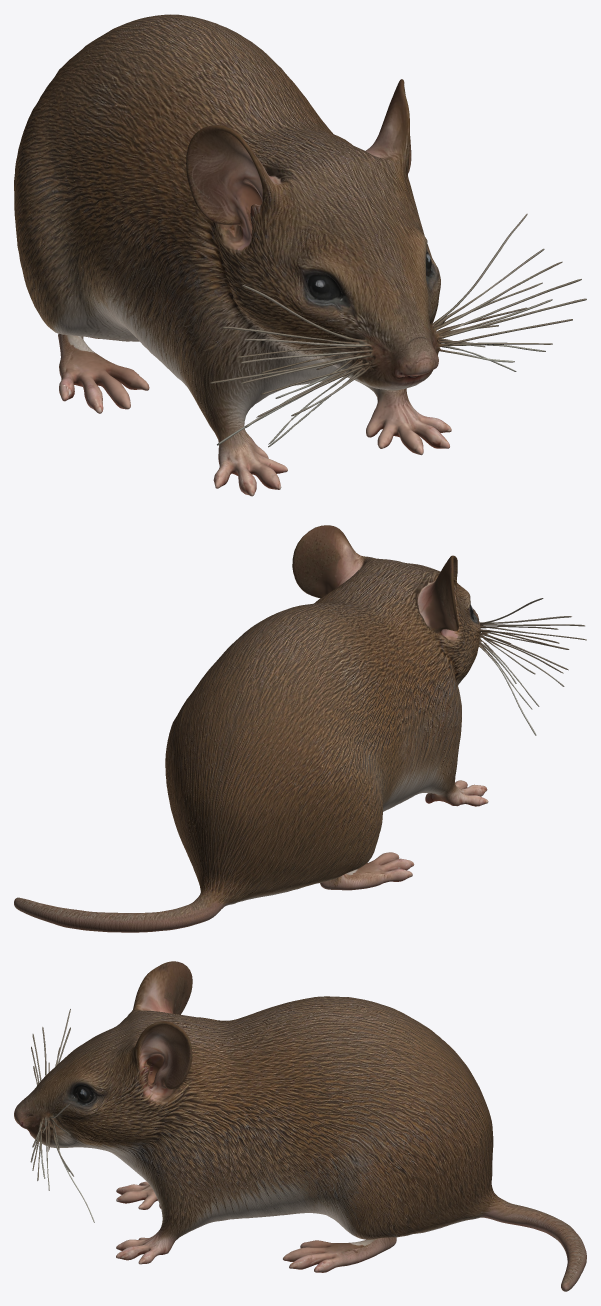
File: housemouse.glb
The picture shows the model from 3 angles, top to bottom: view 1: azimuth 30°, elevation 25°; view 2: azimuth 150°, elevation 25°; view 3: azimuth 270°, elevation 25°; orthographic projection. The views are drawn at different scales.
Visible parts, largest first — view 1: tripo_node_65acd68b-c9c0-4fbf-a046-d0fc6a753830; view 2: tripo_node_65acd68b-c9c0-4fbf-a046-d0fc6a753830; view 3: tripo_node_65acd68b-c9c0-4fbf-a046-d0fc6a753830.
Boxes of the visible parts, bbox=[...] form: tripo_node_65acd68b-c9c0-4fbf-a046-d0fc6a753830: bbox=[14, 14, 586, 496]; tripo_node_65acd68b-c9c0-4fbf-a046-d0fc6a753830: bbox=[14, 525, 586, 932]; tripo_node_65acd68b-c9c0-4fbf-a046-d0fc6a753830: bbox=[14, 961, 586, 1291].
Bounding box in the file's own units: 0.5335 × 0.4565 × 0.9997.
1 material, 1 textured.
